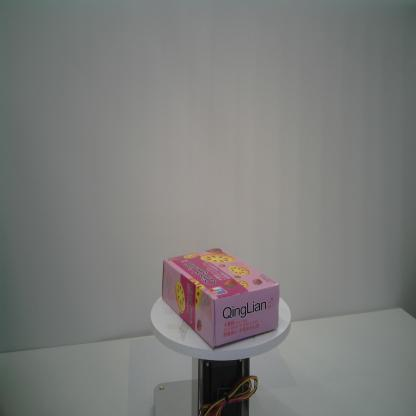Dessert: (160, 246, 280, 350)
